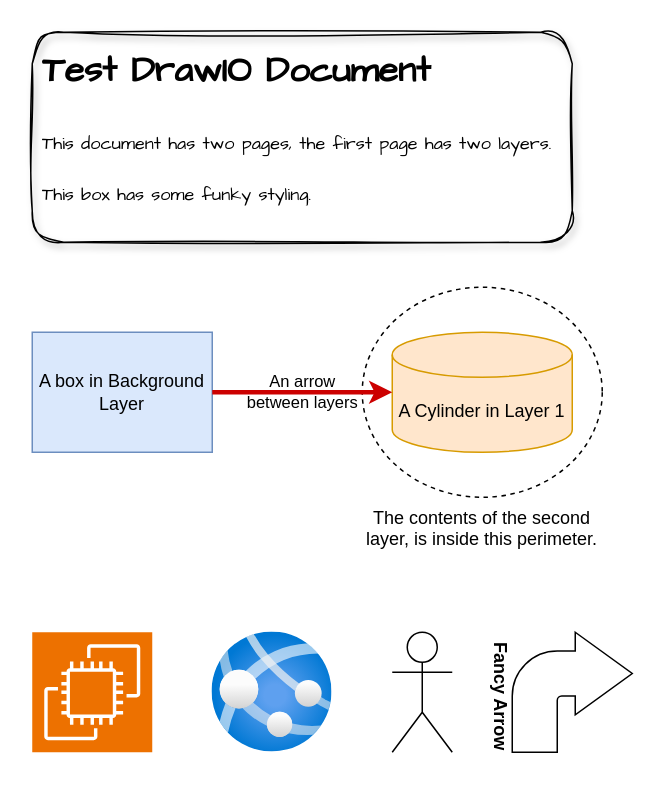
The diagram is 659 pixels wide and 810 high, and some of its shapes have lost their labels. The shapes that lost their labels are listed below. From the top down, each one's centre as x and y in pixels, then its label:
At point (91, 691): "AWS ECS".
At point (272, 692): "Azure App Services".
At point (421, 691): "UML Actor".
